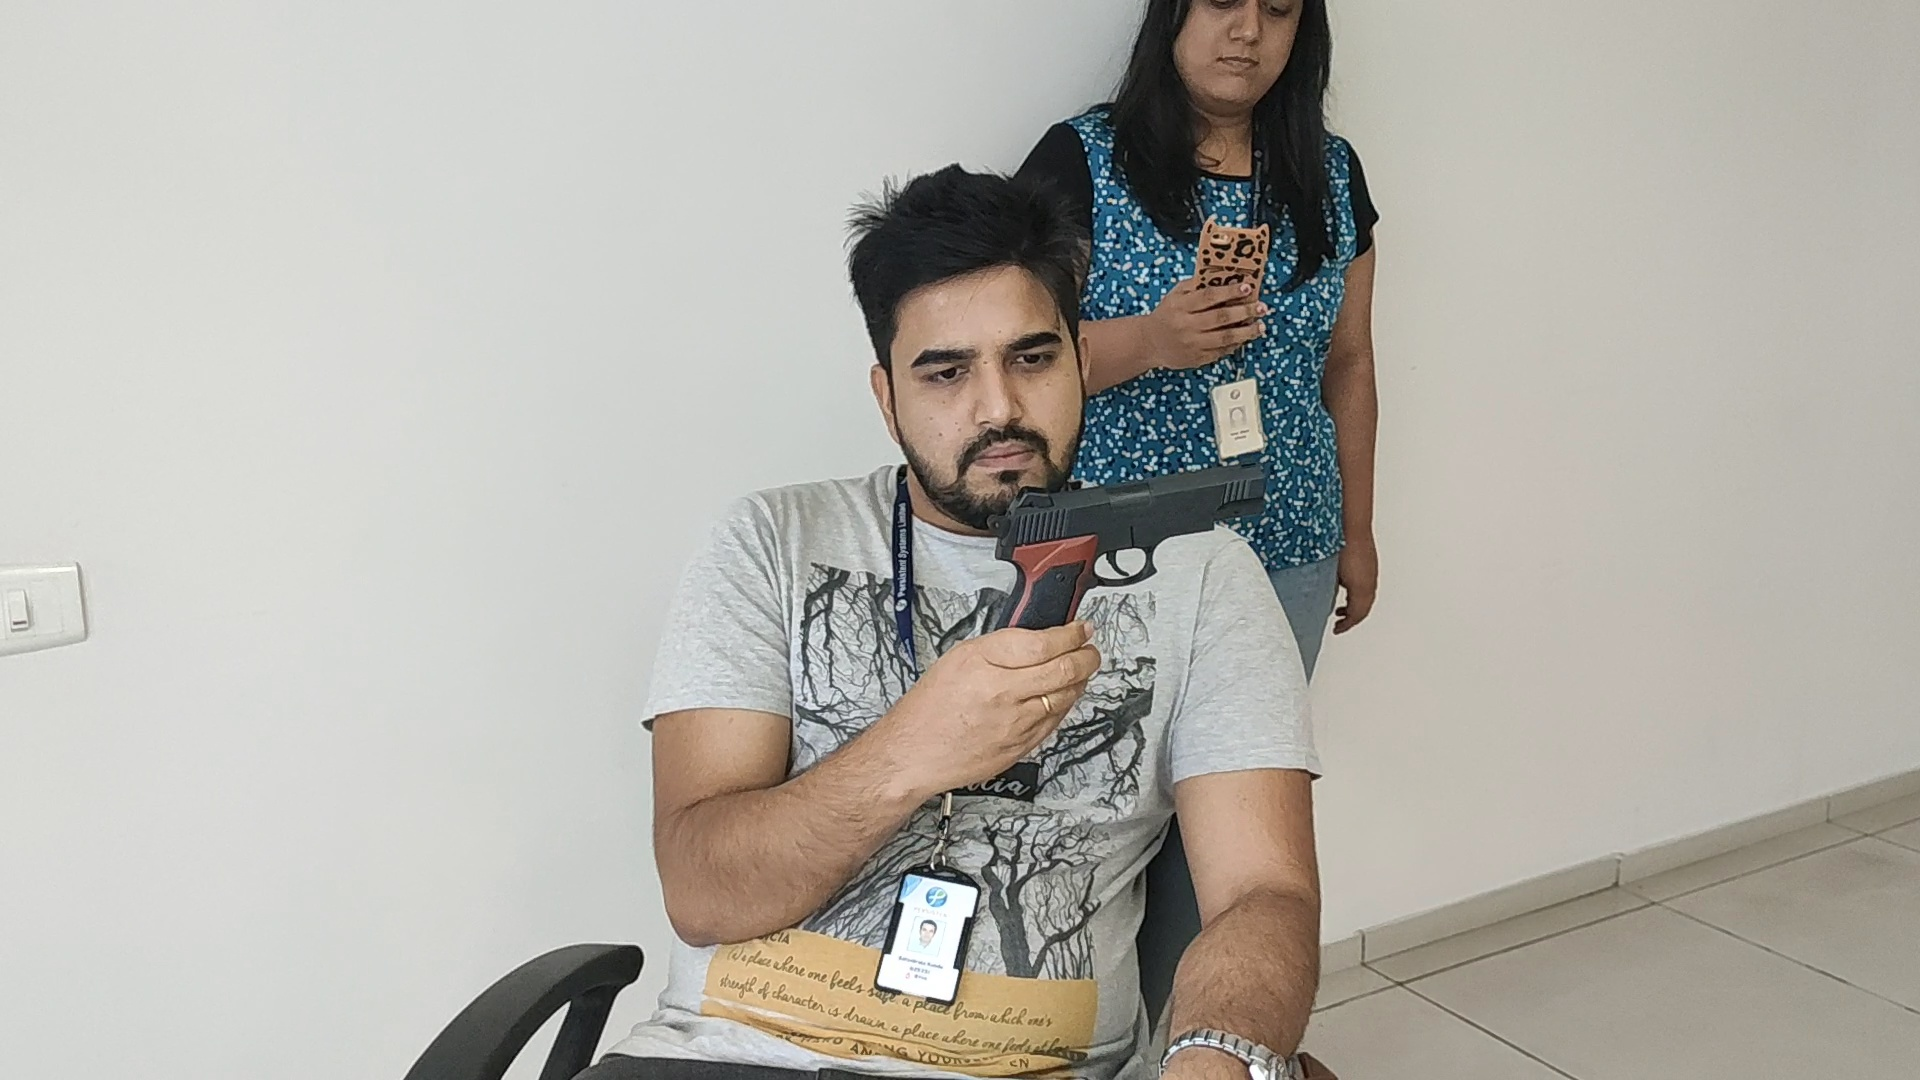gun: (994, 468, 1271, 629)
